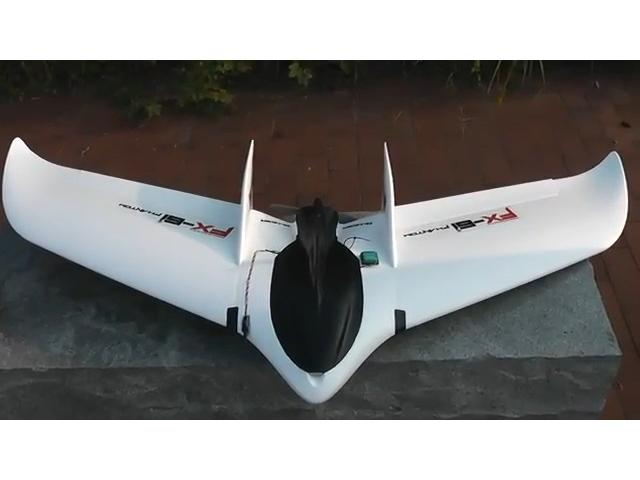Anti-Drone: (3, 106, 635, 416)
